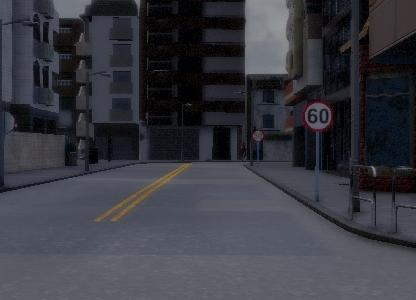Speed_60: (303, 99, 333, 135)
